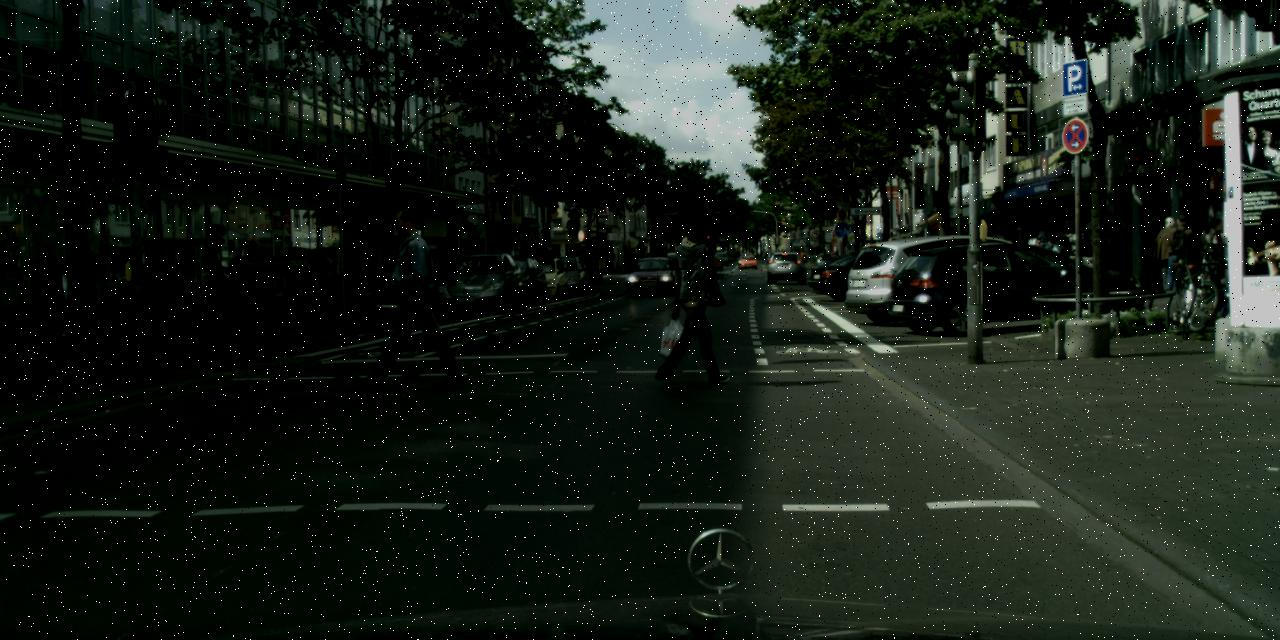ped: (373, 208, 445, 386), (659, 215, 727, 383), (66, 241, 100, 323), (34, 244, 68, 326), (1164, 214, 1196, 293), (1156, 217, 1185, 290), (1202, 218, 1230, 288), (312, 248, 334, 304), (426, 250, 446, 296), (449, 250, 464, 289)
